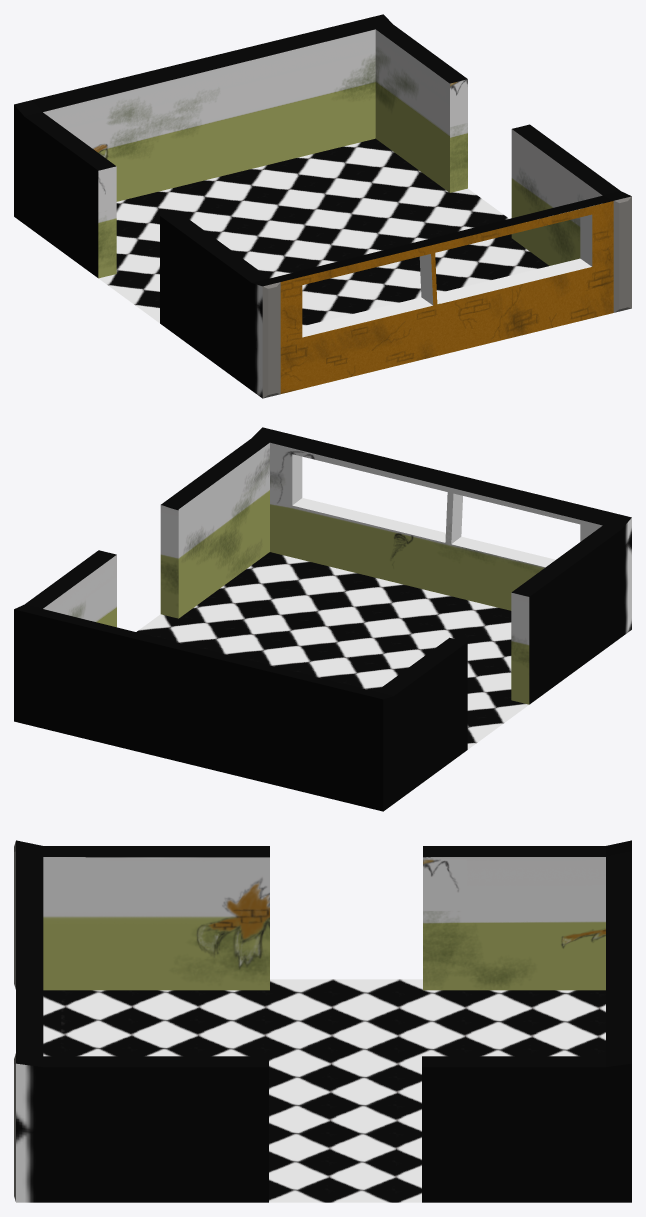
Rendered from Kitchen.fbx.
3 renders of one model, top to bottom at view 1: azimuth 30°, elevation 25°; view 2: azimuth 150°, elevation 25°; view 3: azimuth 270°, elevation 25°, orthographic. The views are drawn at different scales.
Visible parts, largest first — view 1: Kitchen; view 2: Kitchen; view 3: Kitchen.
Part boxes in pixels (x1,y1,x2,y2): Kitchen: (14, 14, 631, 398); Kitchen: (14, 427, 631, 811); Kitchen: (14, 840, 631, 1202).
Bounding box in the file's own units: 1027 × 298 × 1201.
